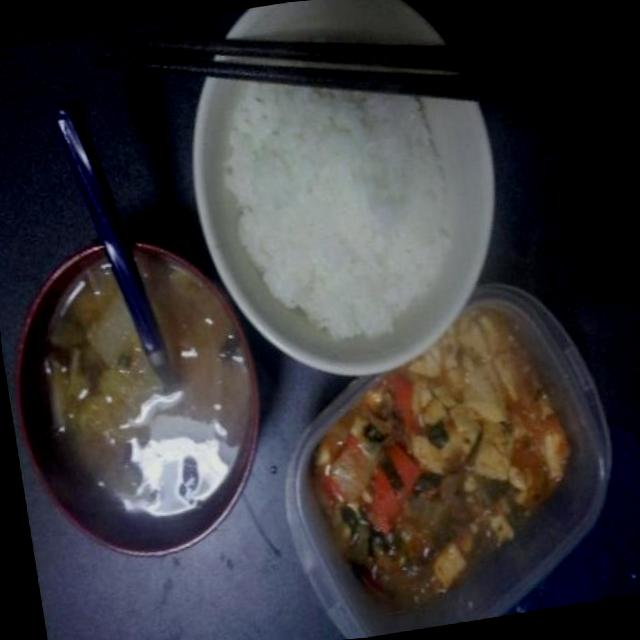Rice: (217, 58, 470, 366)
